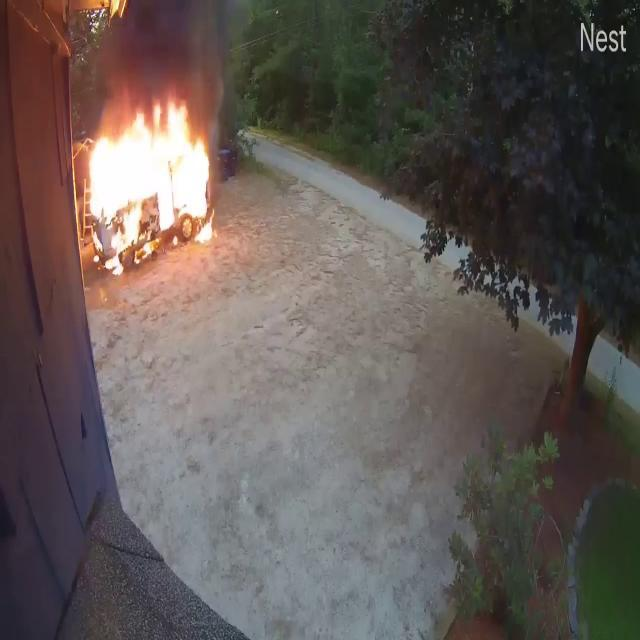Fire: (80, 92, 217, 259)
